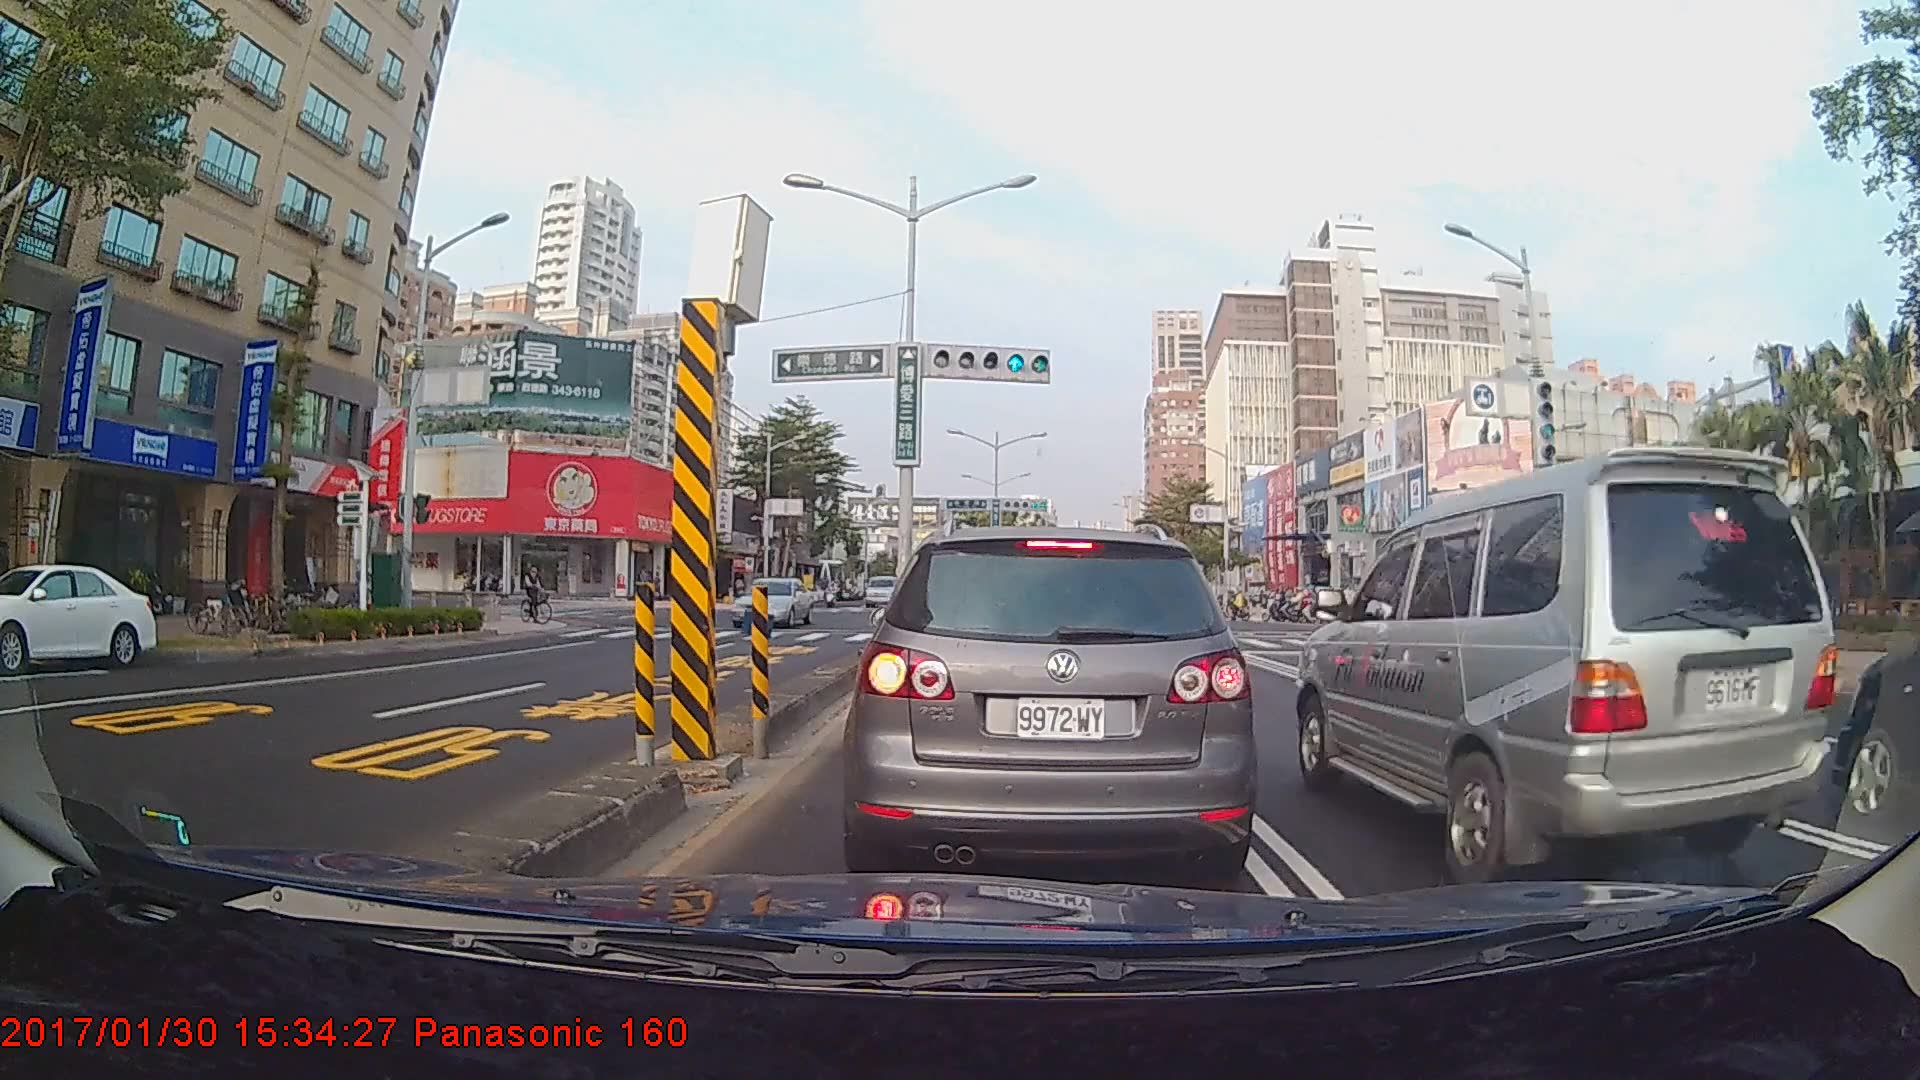rider: (518, 559, 561, 629)
vehicle: (1292, 447, 1839, 883), (853, 525, 1250, 879), (1830, 531, 1920, 827), (0, 561, 157, 671), (728, 574, 815, 629), (862, 573, 902, 606)
